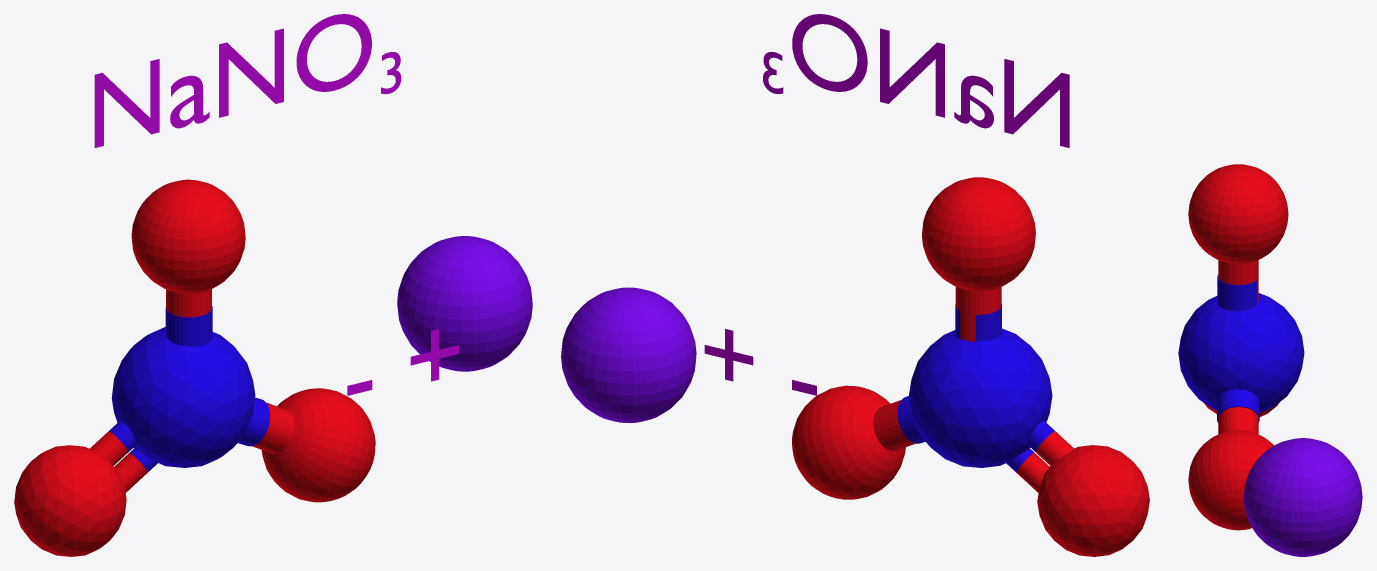
The model's file is nano3.glb.
The picture shows the model from 3 angles, left to right: view 1: azimuth 30°, elevation 25°; view 2: azimuth 150°, elevation 25°; view 3: azimuth 270°, elevation 25°; orthographic projection. The views are drawn at different scales.
Parts seen in each view (by area): view 1: Cylinder, Sphere.002, Sphere, Shape_IndexedFaceSet.002, Sphere.001, Text, Text.001; view 2: Cylinder, Sphere.002, Sphere, Shape_IndexedFaceSet.002, Sphere.001, Text, Text.001; view 3: Cylinder, Sphere.002, Sphere, Sphere.001.
Boxes of the visible parts, left/top/right/bottom form: Cylinder: left=109, top=306, right=269, bottom=472; Sphere.002: left=397, top=236, right=532, bottom=371; Sphere: left=131, top=179, right=245, bottom=317; Shape_IndexedFaceSet.002: left=14, top=431, right=147, bottom=556; Sphere.001: left=252, top=388, right=375, bottom=502; Text: left=94, top=14, right=371, bottom=147; Text.001: left=347, top=329, right=459, bottom=395; Cylinder: left=897, top=304, right=1054, bottom=472; Sphere.002: left=561, top=287, right=696, bottom=423; Sphere: left=922, top=177, right=1035, bottom=341; Shape_IndexedFaceSet.002: left=1016, top=431, right=1149, bottom=556; Sphere.001: left=792, top=385, right=915, bottom=499; Text: left=792, top=14, right=1069, bottom=147; Text.001: left=704, top=329, right=816, bottom=395; Cylinder: left=1178, top=274, right=1304, bottom=422; Sphere.002: left=1243, top=438, right=1362, bottom=556; Sphere: left=1188, top=164, right=1288, bottom=310; Sphere.001: left=1188, top=407, right=1273, bottom=530.
Bounding box in the file's own units: 13.43 × 11.37 × 4.55.
